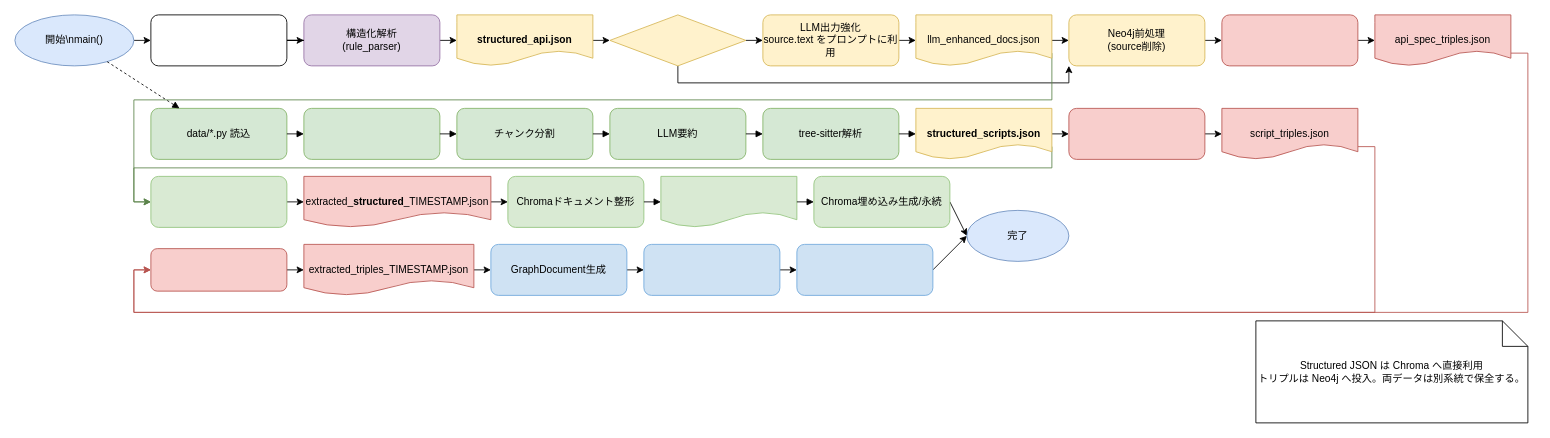
This 1550x438 diagram has some shape labels left out. The shapes that lost their labels are listed below. From the top down, each one's centre as x and y in pixels, then its label:
point (218, 40): API原文を読み込む (api.txt / api_arg.txt)
point (677, 40): LLM活用？
point (1289, 40): 仕様トリプル生成
point (371, 133): コード整形
point (1136, 133): スクリプトトリプル生成
point (218, 201): ストラクチャ統合
point (728, 201): chroma_data.json
point (218, 269): トリプル統合
point (711, 269): Neo4jリセット
point (864, 269): Neo4j投入
